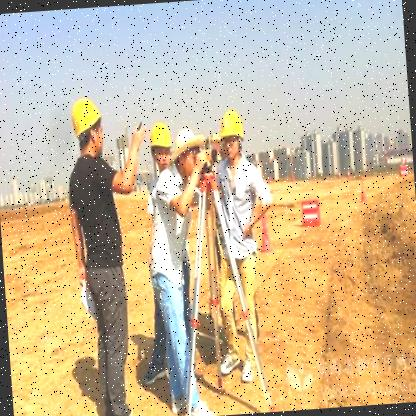capacete: (70, 97, 106, 164), (216, 108, 247, 160), (147, 120, 173, 168)
sem_capacete: (173, 124, 207, 177)
sem_colete_refletivo: (60, 158, 125, 278), (212, 153, 276, 258), (146, 168, 197, 280)
